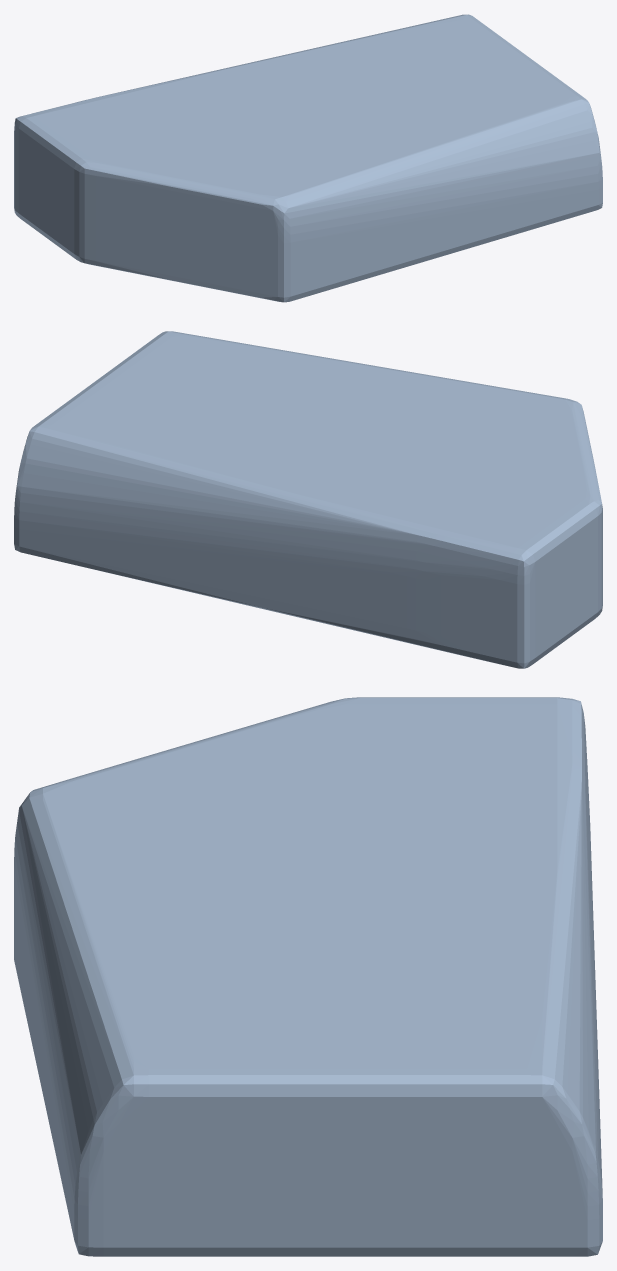
The model's file is left_elbow_link_part_6.obj.
3 renders of one model, top to bottom at view 1: azimuth 30°, elevation 25°; view 2: azimuth 150°, elevation 25°; view 3: azimuth 270°, elevation 25°, orthographic. The views are drawn at different scales.
Bounding box in the file's own units: 0.0905 × 0.0196 × 0.0577.
